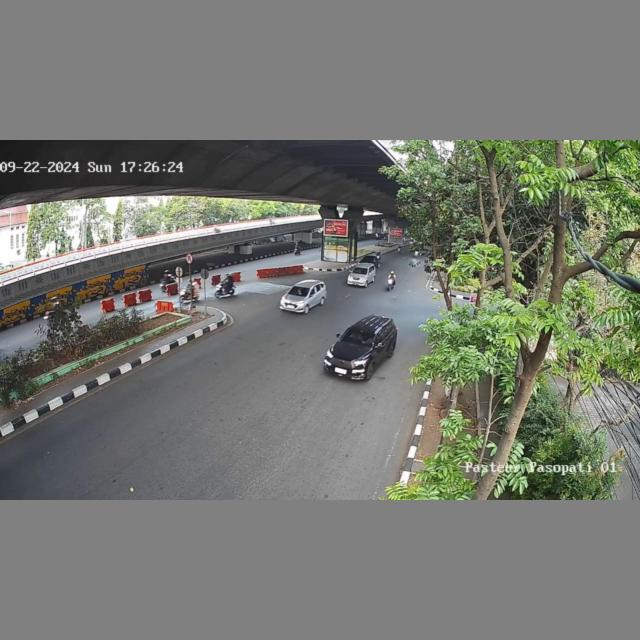windshield: (341, 328, 376, 345), (287, 286, 309, 297), (352, 267, 368, 274)
